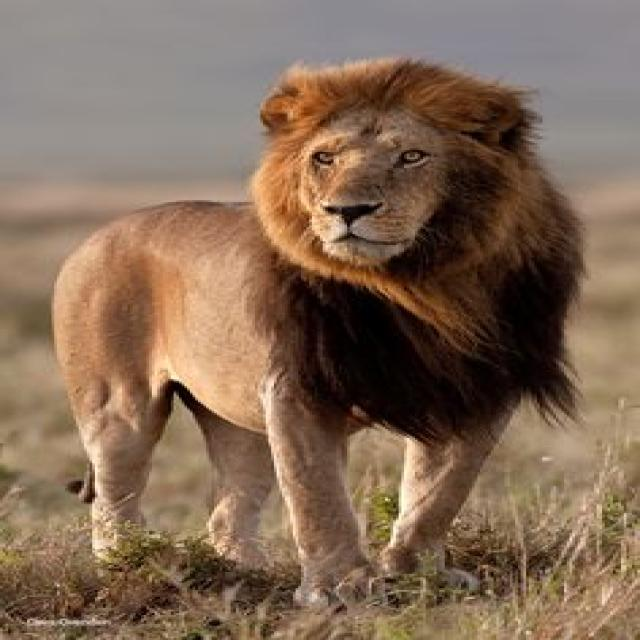Carnivorous: (52, 55, 588, 613)
